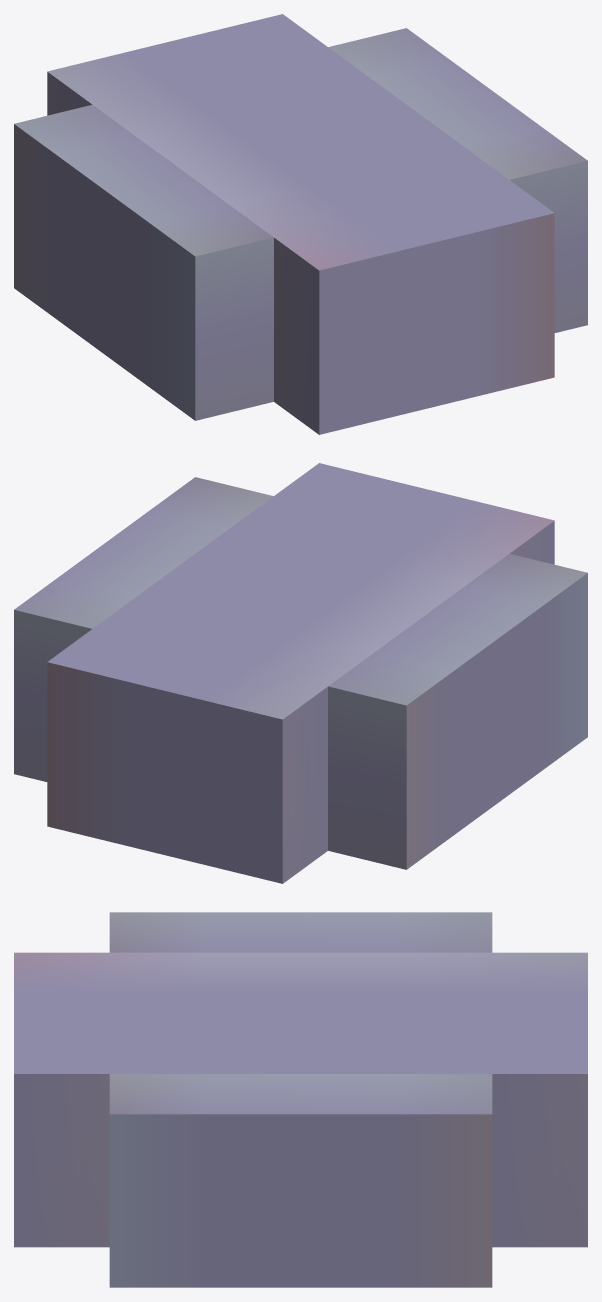
Rendered from PillowSmallPurple_00.fbx.
3 renders of one model, top to bottom at view 1: azimuth 30°, elevation 25°; view 2: azimuth 150°, elevation 25°; view 3: azimuth 270°, elevation 25°, orthographic. The views are drawn at different scales.
Visible parts, largest first — view 1: PillowSmallPurple_00; view 2: PillowSmallPurple_00; view 3: PillowSmallPurple_00.
Part boxes in pixels (x1,y1,x2,y2): PillowSmallPurple_00: (14, 14, 587, 434); PillowSmallPurple_00: (14, 463, 587, 883); PillowSmallPurple_00: (14, 912, 587, 1287).
Bounding box in the file's own units: 25 × 30 × 10.
1 material, 1 textured.
